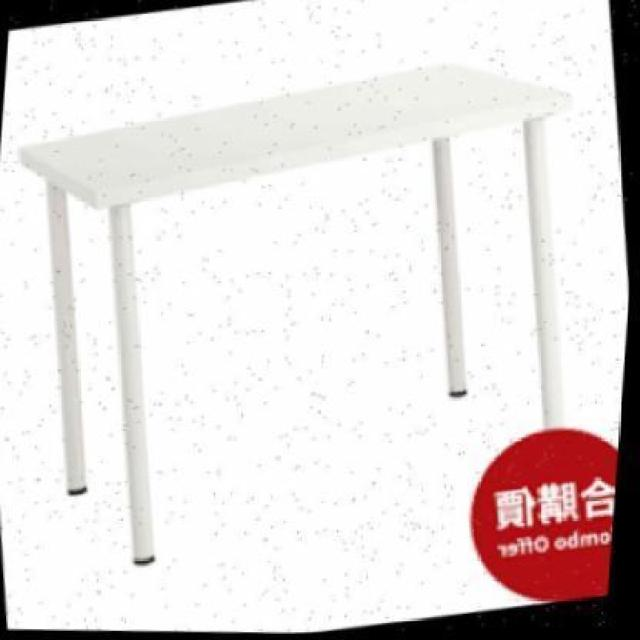tables: (15, 58, 572, 564)
